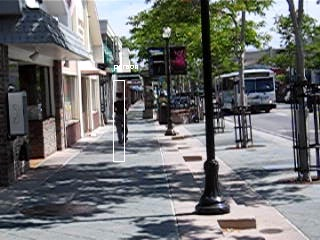person: (112, 92, 131, 145), (111, 92, 130, 145), (113, 92, 132, 145), (112, 91, 131, 144), (112, 93, 131, 146)
target_negative: (155, 210, 296, 229), (64, 139, 133, 175), (300, 28, 311, 219), (7, 218, 158, 227), (293, 191, 306, 219), (114, 220, 119, 221)
